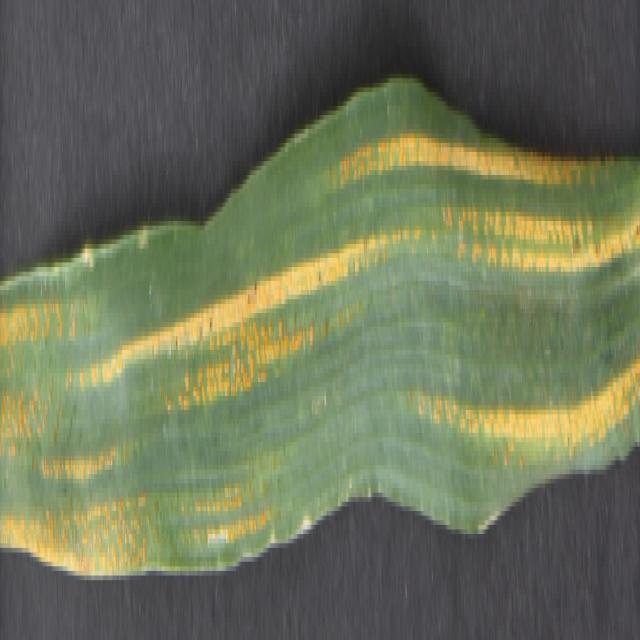leaf rust: (1, 106, 638, 580)
